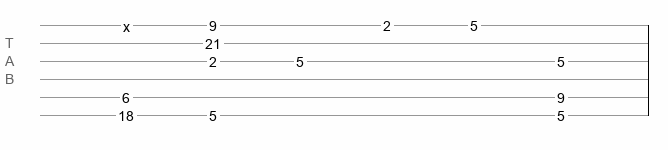18: (118, 108, 134, 118)
2: (209, 54, 217, 64), (383, 18, 391, 28)
21: (205, 36, 221, 46)
5: (209, 108, 217, 118), (296, 54, 304, 64), (470, 18, 478, 28), (557, 108, 565, 118), (557, 54, 565, 64)
6: (122, 90, 130, 100)
9: (209, 18, 217, 28), (557, 90, 565, 100)
x: (123, 19, 130, 27)
